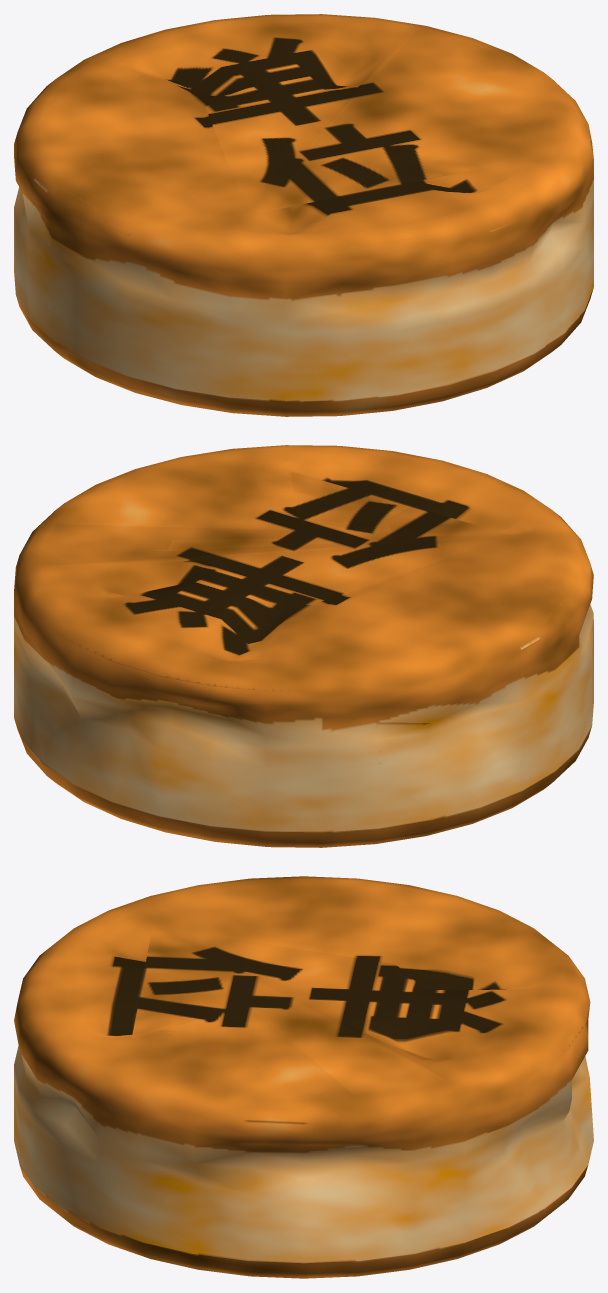
The model's file is 単位パン.fbx.
The picture shows the model from 3 angles, top to bottom: view 1: azimuth 30°, elevation 25°; view 2: azimuth 150°, elevation 25°; view 3: azimuth 270°, elevation 25°; orthographic projection.
Visible parts, largest first — view 1: 単位パン; view 2: 単位パン; view 3: 単位パン.
Part boxes in pixels (x1=…): 単位パン: x1=14, y1=14, x2=593, y2=416; 単位パン: x1=14, y1=445, x2=593, y2=847; 単位パン: x1=14, y1=876, x2=593, y2=1278.
Size of the model in its own units: 15 by 5 by 15.
Materials: 1 (1 with a texture image).
